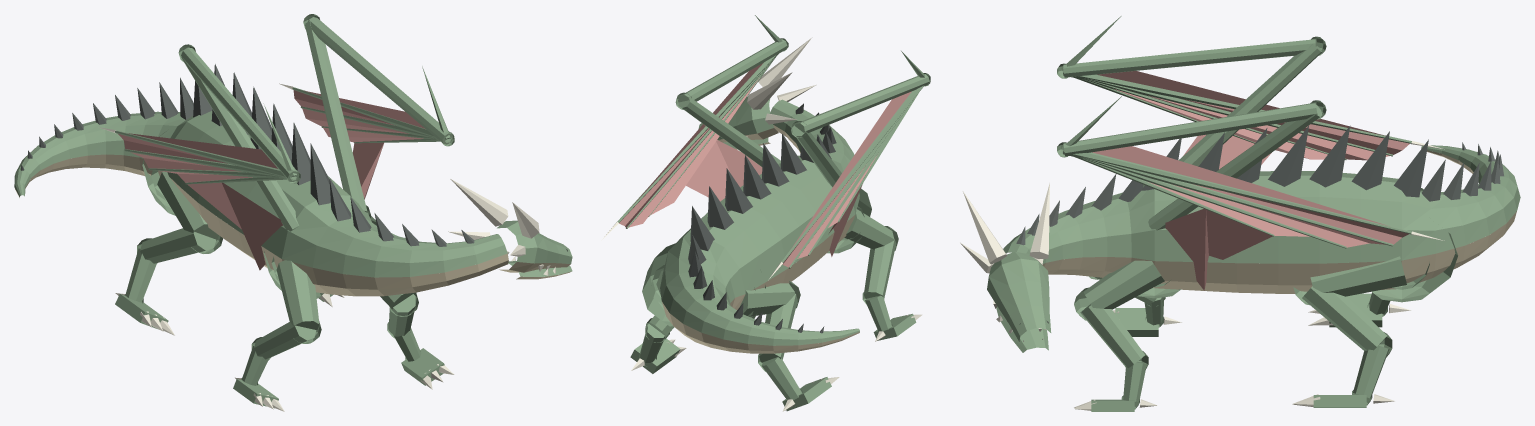
Rendered from dragons-and-wyverns-western-dragon-sleeping-5b6c6d44__36700.glb.
The picture shows the model from 3 angles, left to right: view 1: azimuth 30°, elevation 25°; view 2: azimuth 150°, elevation 25°; view 3: azimuth 270°, elevation 25°; orthographic projection. The views are drawn at different scales.
Visible parts, largest first — view 1: western-dragon-sleeping; view 2: western-dragon-sleeping; view 3: western-dragon-sleeping.
Boxes of the visible parts, left/top/right/bottom form: western-dragon-sleeping: left=14, top=14, right=572, bottom=411; western-dragon-sleeping: left=601, top=15, right=930, bottom=411; western-dragon-sleeping: left=960, top=16, right=1520, bottom=411.
Size of the model in its own units: 3.58 by 2.92 by 4.61.
